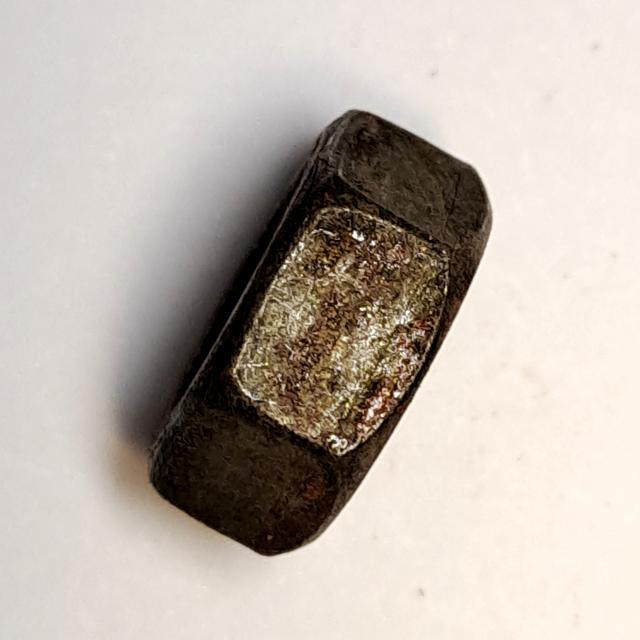Side_Rust: (124, 96, 511, 565)
